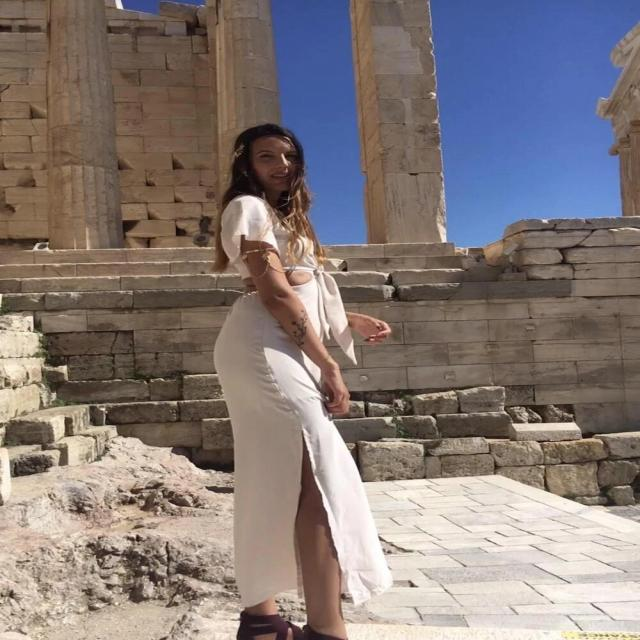clothes: (184, 185, 409, 615)
